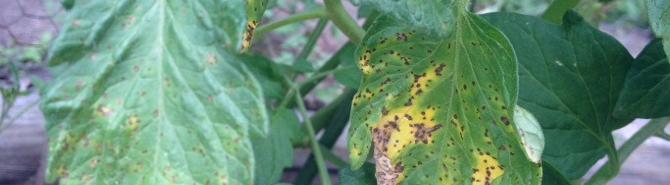Tomato Septoria leaf spot: (38, 0, 281, 185), (348, 4, 548, 185)
